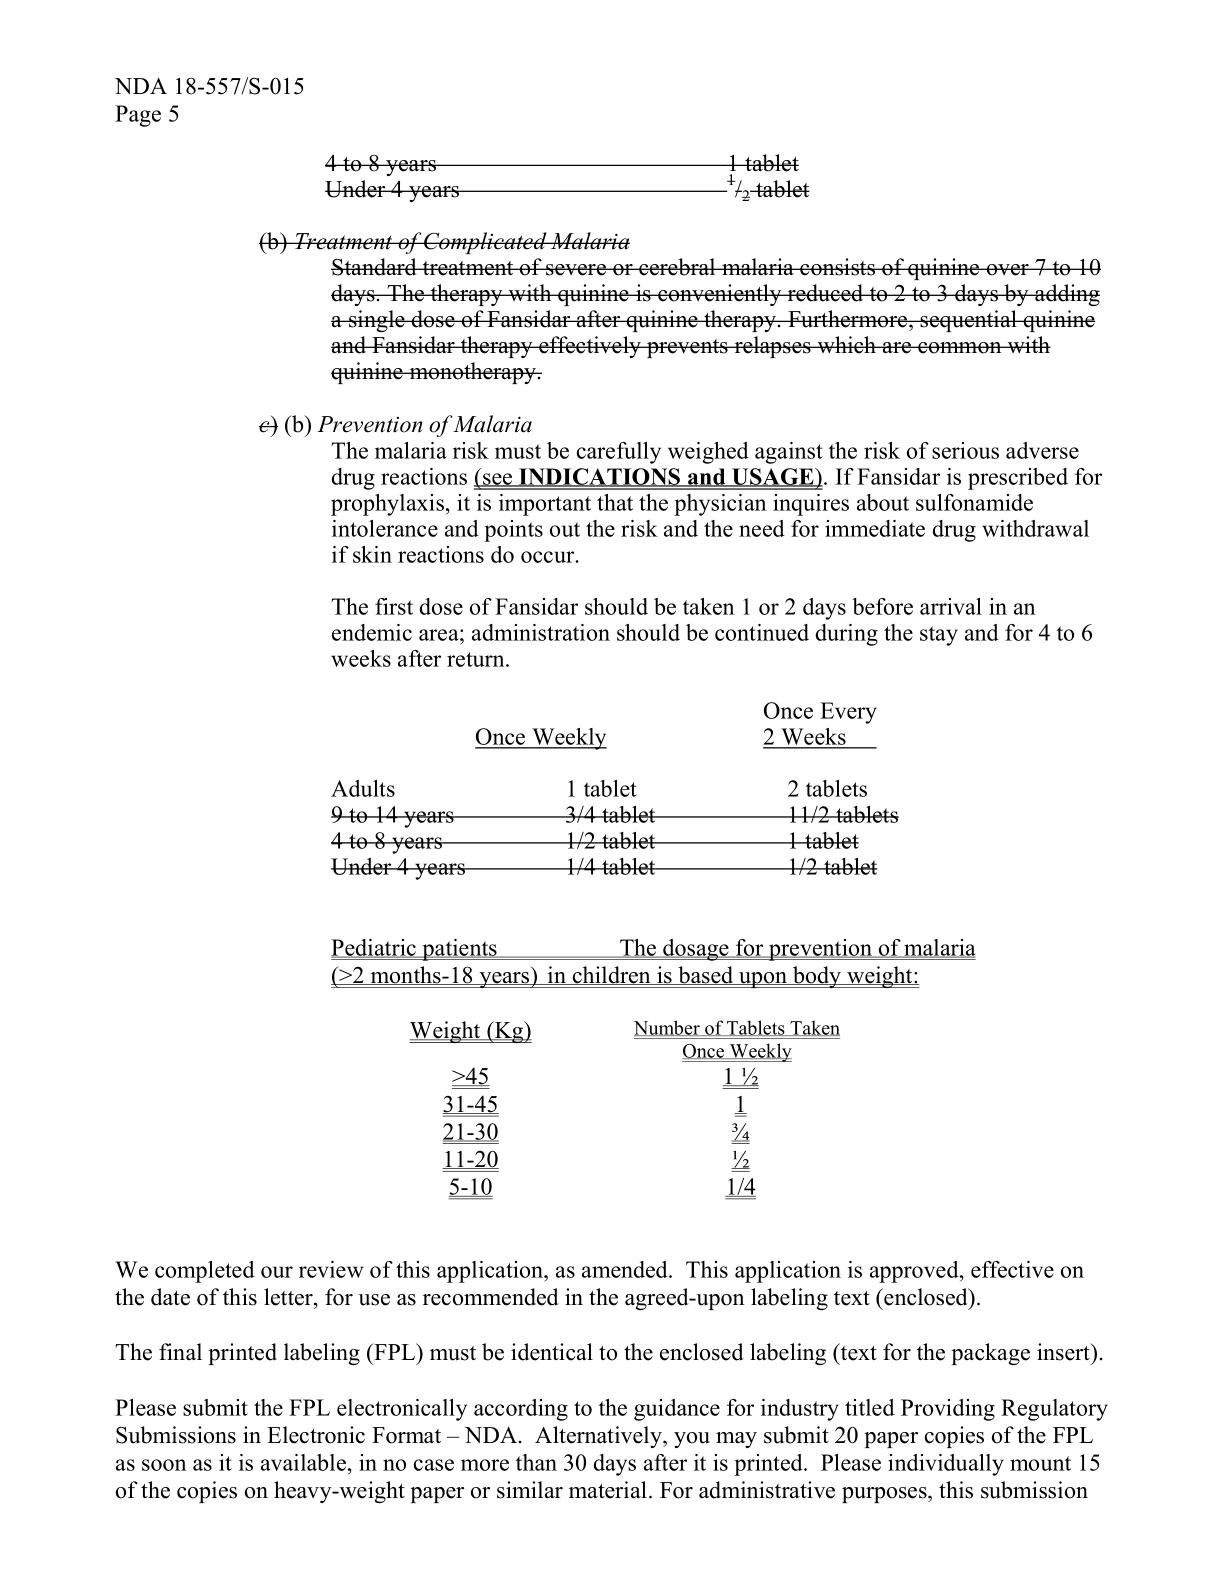nolines: (324, 701, 897, 882), (406, 1018, 842, 1200)
